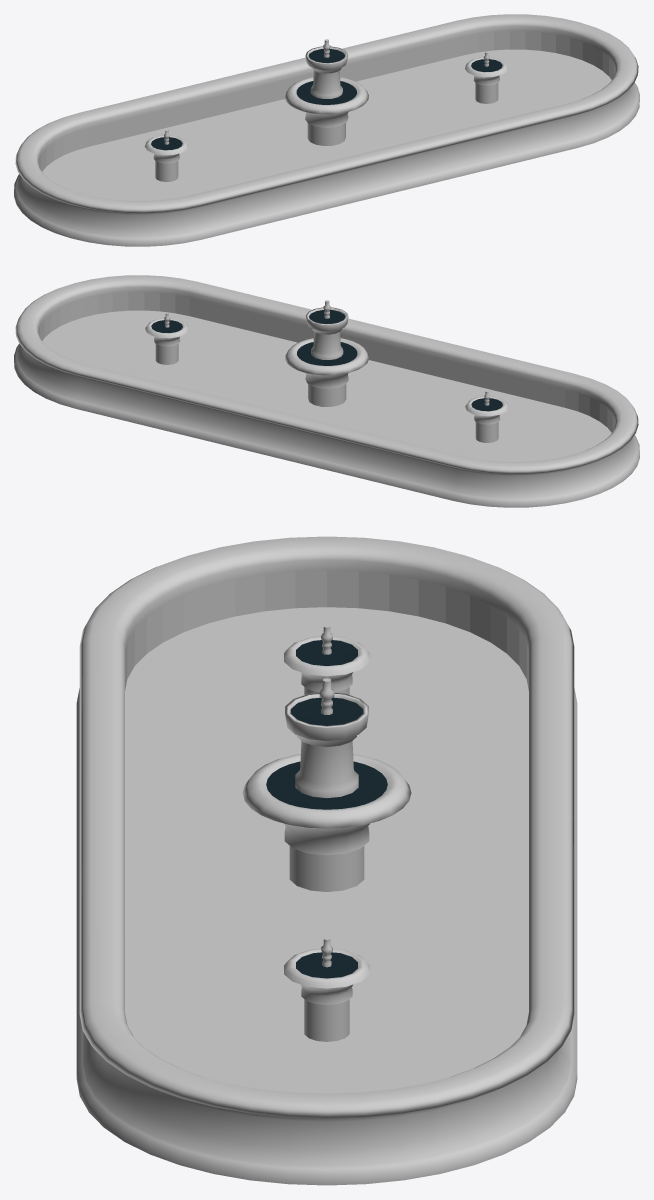
The model's file is fountain.fbx.
The picture shows the model from 3 angles, top to bottom: view 1: azimuth 30°, elevation 25°; view 2: azimuth 150°, elevation 25°; view 3: azimuth 270°, elevation 25°; orthographic projection. The views are drawn at different scales.
Visible parts, largest first — view 1: LODGroup_1_MainMesh_1_SubMesh_3, LODGroup_1_MainMesh_1_SubMesh_4, LODGroup_1_MainMesh_1_SubMesh_2, LODGroup_1_MainMesh_1_SubMesh_1; view 2: LODGroup_1_MainMesh_1_SubMesh_3, LODGroup_1_MainMesh_1_SubMesh_4, LODGroup_1_MainMesh_1_SubMesh_2, LODGroup_1_MainMesh_1_SubMesh_1; view 3: LODGroup_1_MainMesh_1_SubMesh_4, LODGroup_1_MainMesh_1_SubMesh_3, LODGroup_1_MainMesh_1_SubMesh_2, LODGroup_1_MainMesh_1_SubMesh_1.
Part boxes in pixels (x1=…): LODGroup_1_MainMesh_1_SubMesh_3: x1=14, y1=14, x2=639, y2=246; LODGroup_1_MainMesh_1_SubMesh_4: x1=42, y1=49, x2=611, y2=200; LODGroup_1_MainMesh_1_SubMesh_2: x1=144, y1=39, x2=508, y2=181; LODGroup_1_MainMesh_1_SubMesh_1: x1=151, y1=49, x2=502, y2=150; LODGroup_1_MainMesh_1_SubMesh_3: x1=14, y1=275, x2=639, y2=507; LODGroup_1_MainMesh_1_SubMesh_4: x1=42, y1=310, x2=611, y2=461; LODGroup_1_MainMesh_1_SubMesh_2: x1=145, y1=300, x2=509, y2=442; LODGroup_1_MainMesh_1_SubMesh_1: x1=151, y1=310, x2=502, y2=411; LODGroup_1_MainMesh_1_SubMesh_4: x1=125, y1=607, x2=528, y2=1093; LODGroup_1_MainMesh_1_SubMesh_3: x1=76, y1=536, x2=577, y2=1185; LODGroup_1_MainMesh_1_SubMesh_2: x1=242, y1=625, x2=411, y2=1041; LODGroup_1_MainMesh_1_SubMesh_1: x1=266, y1=640, x2=387, y2=978.
Size of the model in its own units: 1047 by 182 by 383.
